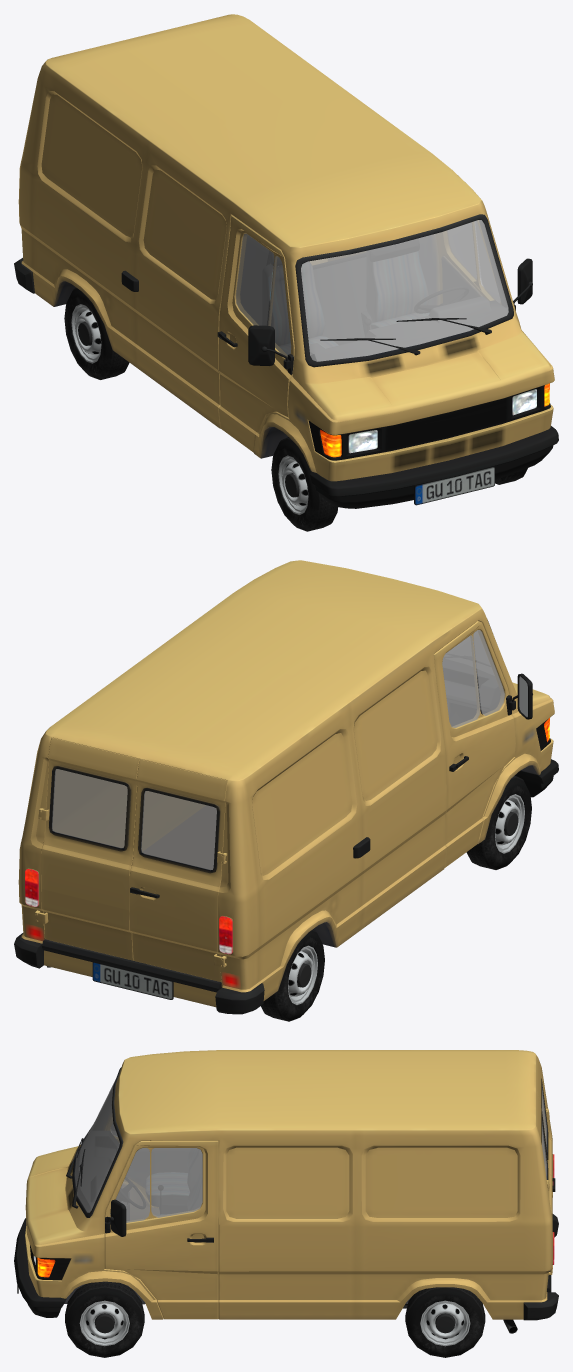
File: van-mb207.glb
3 views of the same model, one above another, from view 1: azimuth 30°, elevation 25°; view 2: azimuth 150°, elevation 25°; view 3: azimuth 270°, elevation 25° (orthographic). The views are drawn at different scales.
Parts seen in each view (by area): view 1: polySurface160_van_european_delivery_body_shd_0, glass_windshield_ply_van_european_delivery_glass_shd_0, polySurface149_van_european_delivery_body_shd_0 (×2), bumper_front_ply_van_european_delivery_trim_shd_0, seat_front_ply_van_european_delivery_trim_shd_0 (×2), door_glass_ply_van_european_delivery_glass_shd_0 (×2), wheel_front_ply_van_european_delivery_wheels_shd_0, wheel_front_ply2_van_european_delivery_wheels_shd_0, license_plate_rear_ply1_van_european_delivery_trim_shd_0, mirror_ply_van_european_delivery_trim_shd_0; view 2: polySurface160_van_european_delivery_body_shd_0, polySurface22_van_european_delivery_body_shd_0, polySurface137_van_european_delivery_body_shd_0, polySurface149_van_european_delivery_body_shd_0, pCube80_van_european_delivery_glass_shd_0, pCube81_van_european_delivery_glass_shd_0, door_glass_ply_van_european_delivery_glass_shd_0, wheel_front_ply_van_european_delivery_wheels_shd_0, wheel_front_ply2_van_european_delivery_wheels_shd_0, license_plate_rear_ply_van_european_delivery_trim_shd_0, glass_windshield_ply_van_european_delivery_glass_shd_0, bumper_front_ply_van_european_delivery_trim_shd_0 (+1 smaller); view 3: polySurface160_van_european_delivery_body_shd_0, polySurface149_van_european_delivery_body_shd_0 (×2), door_glass_ply_van_european_delivery_glass_shd_0, wheel_front_ply5_van_european_delivery_wheels_shd_0, wheel_front_ply4_van_european_delivery_wheels_shd_0, glass_windshield_ply_van_european_delivery_glass_shd_0, bumper_front_ply_van_european_delivery_trim_shd_0, pCube69_van_european_delivery_trim_shd_0, polySurface137_van_european_delivery_body_shd_0, polySurface22_van_european_delivery_body_shd_0, mirror_ply_van_european_delivery_trim_shd_0, seat_front_ply_van_european_delivery_trim_shd_0.
Part boxes in pixels (<box>): polySurface160_van_european_delivery_body_shd_0: <box>14,14,554,481</box>; glass_windshield_ply_van_european_delivery_glass_shd_0: <box>301,220,508,361</box>; polySurface149_van_european_delivery_body_shd_0 (×2): <box>218,215,493,452</box>; bumper_front_ply_van_european_delivery_trim_shd_0: <box>310,426,558,508</box>; seat_front_ply_van_european_delivery_trim_shd_0 (×2): <box>262,250,428,345</box>; door_glass_ply_van_european_delivery_glass_shd_0 (×2): <box>235,221,499,356</box>; wheel_front_ply_van_european_delivery_wheels_shd_0: <box>271,437,338,531</box>; wheel_front_ply2_van_european_delivery_wheels_shd_0: <box>64,288,129,379</box>; license_plate_rear_ply1_van_european_delivery_trim_shd_0: <box>414,466,494,505</box>; mirror_ply_van_european_delivery_trim_shd_0: <box>248,325,274,365</box>; polySurface160_van_european_delivery_body_shd_0: <box>14,560,554,1014</box>; polySurface22_van_european_delivery_body_shd_0: <box>41,737,139,960</box>; polySurface137_van_european_delivery_body_shd_0: <box>129,759,227,982</box>; polySurface149_van_european_delivery_body_shd_0: <box>433,621,515,867</box>; pCube80_van_european_delivery_glass_shd_0: <box>52,769,127,848</box>; pCube81_van_european_delivery_glass_shd_0: <box>141,791,216,870</box>; door_glass_ply_van_european_delivery_glass_shd_0: <box>442,630,504,727</box>; wheel_front_ply_van_european_delivery_wheels_shd_0: <box>466,775,531,869</box>; wheel_front_ply2_van_european_delivery_wheels_shd_0: <box>261,929,324,1021</box>; license_plate_rear_ply_van_european_delivery_trim_shd_0: <box>92,962,173,999</box>; glass_windshield_ply_van_european_delivery_glass_shd_0: <box>444,632,493,674</box>; bumper_front_ply_van_european_delivery_trim_shd_0: <box>515,759,558,797</box>; polySurface160_van_european_delivery_body_shd_0: <box>25,1050,558,1320</box>; polySurface149_van_european_delivery_body_shd_0 (×2): <box>104,1116,218,1319</box>; door_glass_ply_van_european_delivery_glass_shd_0: <box>110,1148,202,1222</box>; wheel_front_ply5_van_european_delivery_wheels_shd_0: <box>65,1281,144,1357</box>; wheel_front_ply4_van_european_delivery_wheels_shd_0: <box>405,1287,485,1357</box>; glass_windshield_ply_van_european_delivery_glass_shd_0: <box>74,1079,119,1212</box>; bumper_front_ply_van_european_delivery_trim_shd_0: <box>14,1218,66,1317</box>; pCube69_van_european_delivery_trim_shd_0: <box>146,1172,189,1206</box>; polySurface137_van_european_delivery_body_shd_0: <box>535,1056,552,1180</box>; polySurface22_van_european_delivery_body_shd_0: <box>535,1091,552,1215</box>; mirror_ply_van_european_delivery_trim_shd_0: <box>110,1199,126,1236</box>; seat_front_ply_van_european_delivery_trim_shd_0: <box>188,1148,201,1190</box>.
Bounding box in the file's own units: 2.66 × 2.51 × 5.37.
Materials: 5 (4 with a texture image).
